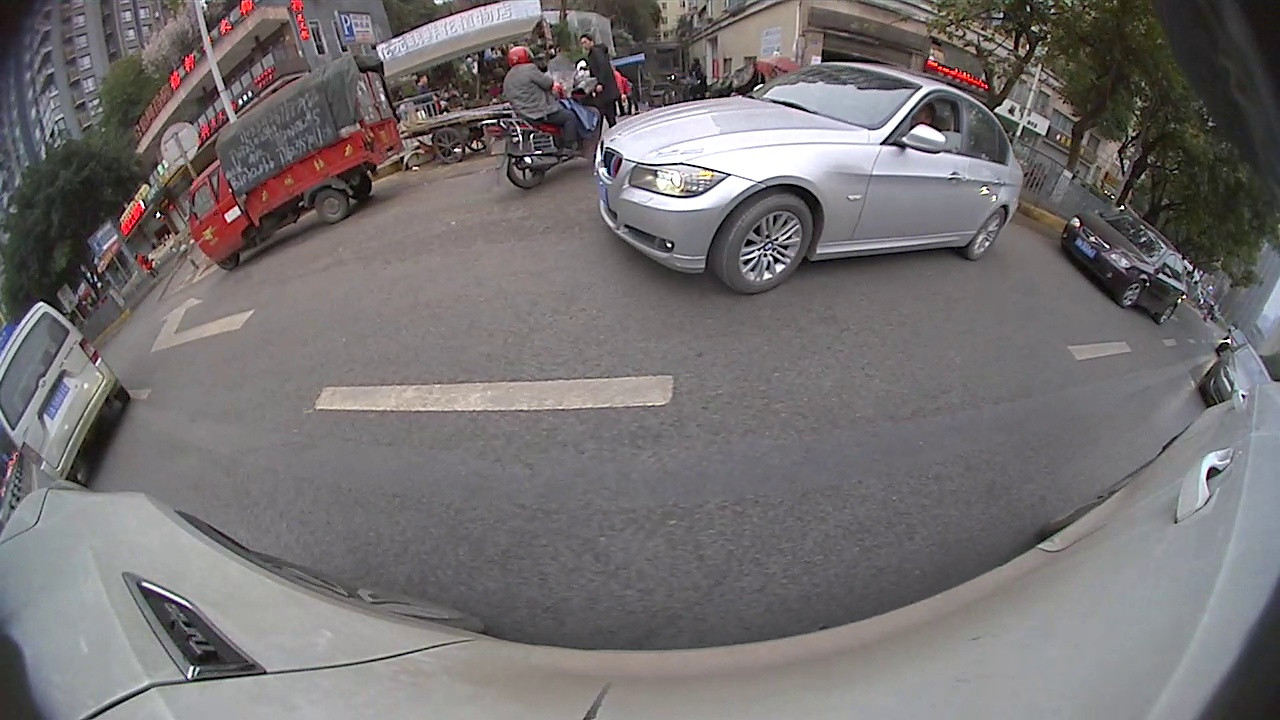car: (591, 57, 1026, 299), (2, 292, 134, 487), (1055, 210, 1191, 330), (1195, 340, 1275, 410)
front: (718, 199, 815, 292), (1119, 273, 1145, 309)
person: (575, 30, 629, 125)
rear: (496, 141, 552, 191), (964, 209, 1012, 263), (309, 192, 352, 224), (1158, 298, 1178, 327)
rider: (181, 54, 410, 270), (484, 43, 602, 197)
